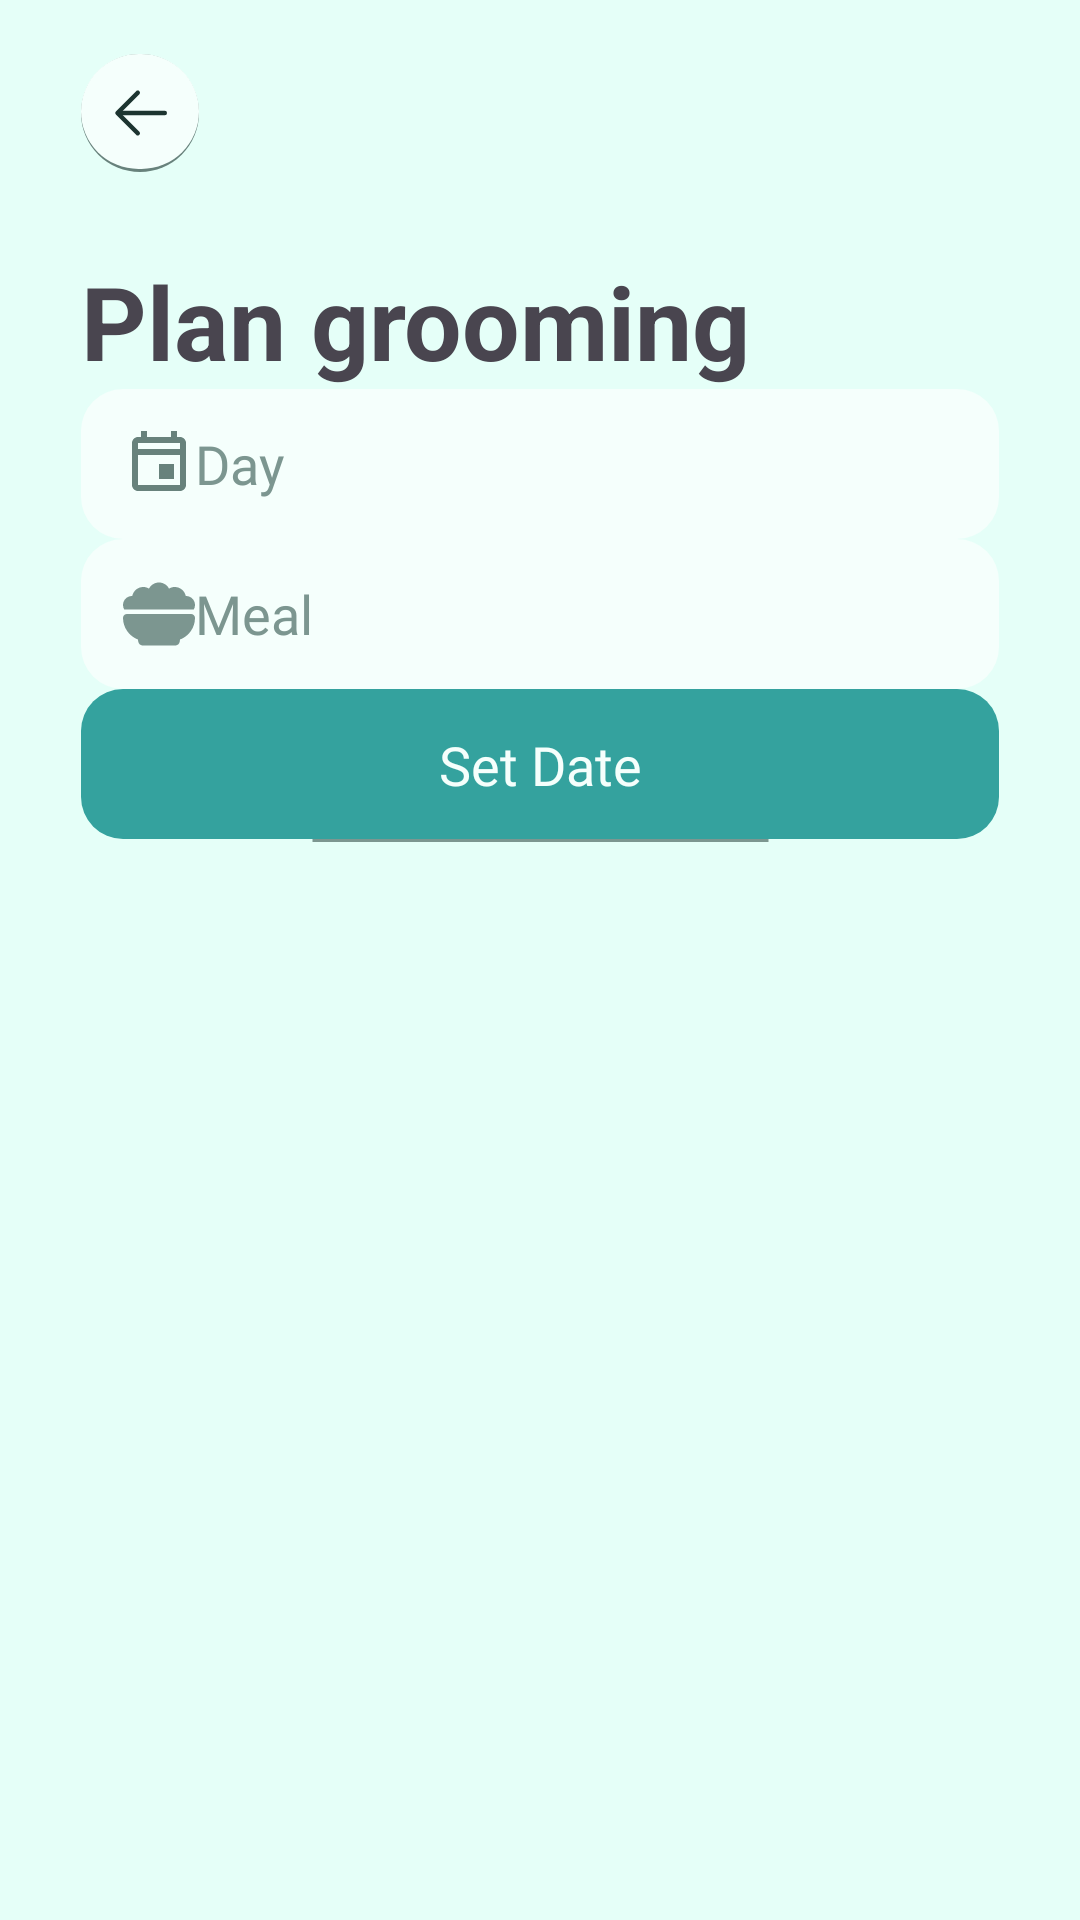

Icons on this 1080px x 1920px Android screen, each with the point to tap as (x=x, y=y):
back: (x=141, y=113)
bowl food: (x=159, y=614)
calendar: (x=159, y=461)
